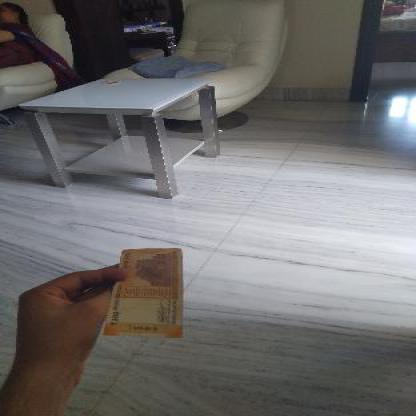New200Back: (103, 249, 185, 337)
